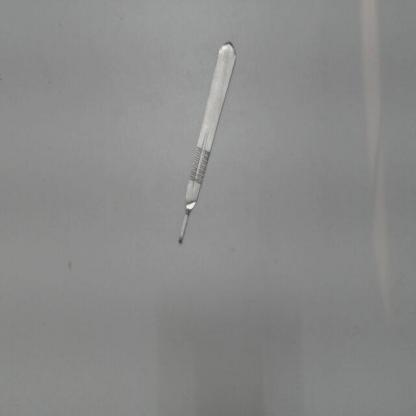No.3 BP Handle: (169, 41, 249, 252)
